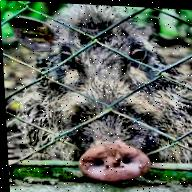boar: (5, 0, 192, 187)
